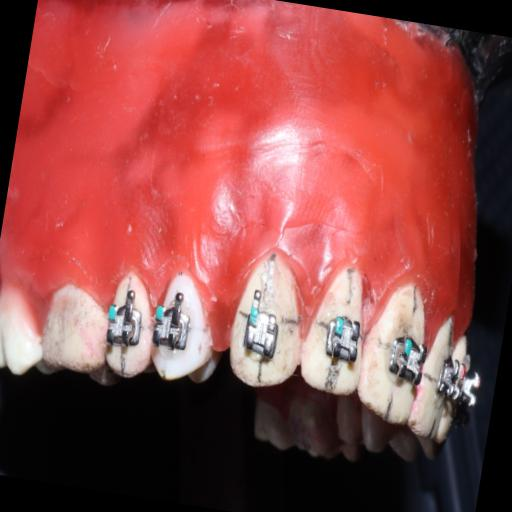incorrect_brace: (295, 258, 374, 399), (320, 311, 366, 372), (240, 304, 282, 363)
